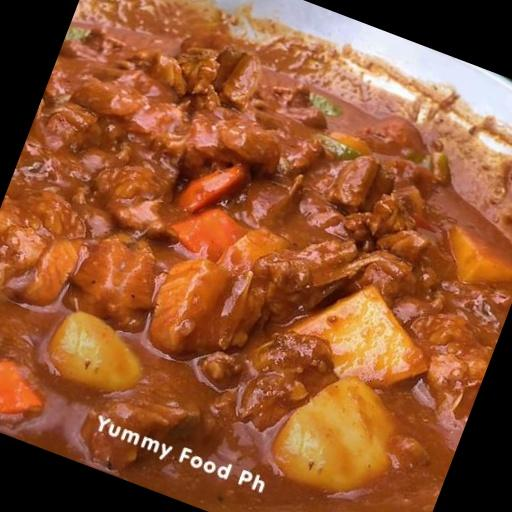pork caldereta: (0, 0, 511, 511)
